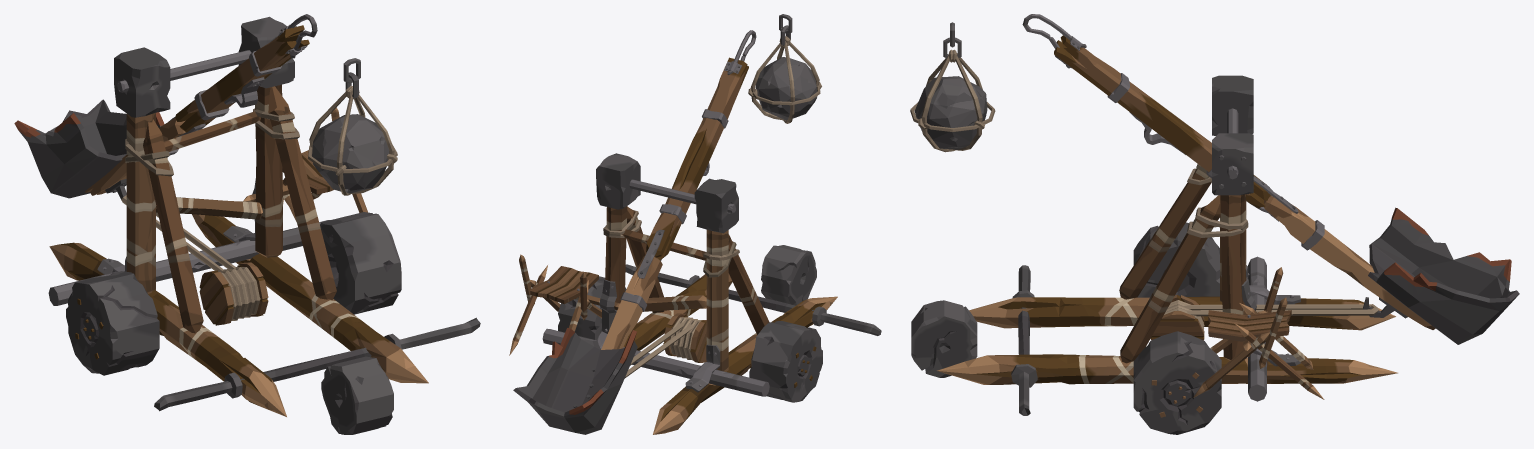
Rendered from bog_trebuchet.gltf.
3 renders of one model, left to right at view 1: azimuth 30°, elevation 25°; view 2: azimuth 150°, elevation 25°; view 3: azimuth 270°, elevation 25°, orthographic. The views are drawn at different scales.
Visible parts, largest first — view 1: bog_trebuchet; view 2: bog_trebuchet; view 3: bog_trebuchet.
Boxes of the visible parts, box(x1,y1,x2,y2) form: bog_trebuchet: box(14, 14, 480, 434); bog_trebuchet: box(509, 14, 881, 434); bog_trebuchet: box(910, 14, 1519, 434).
Bounding box in the file's own units: 5.09 × 5.68 × 8.8.
1 material, 1 textured.
